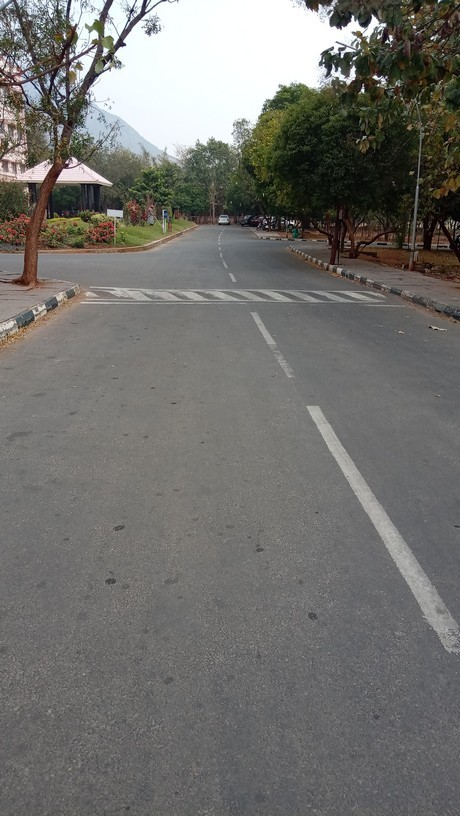bump: (72, 284, 391, 304)
